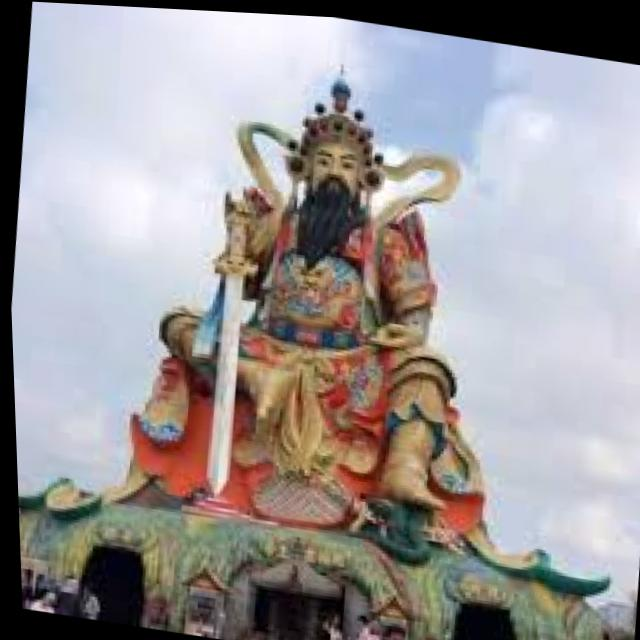Xuan wu: (169, 38, 473, 515)
